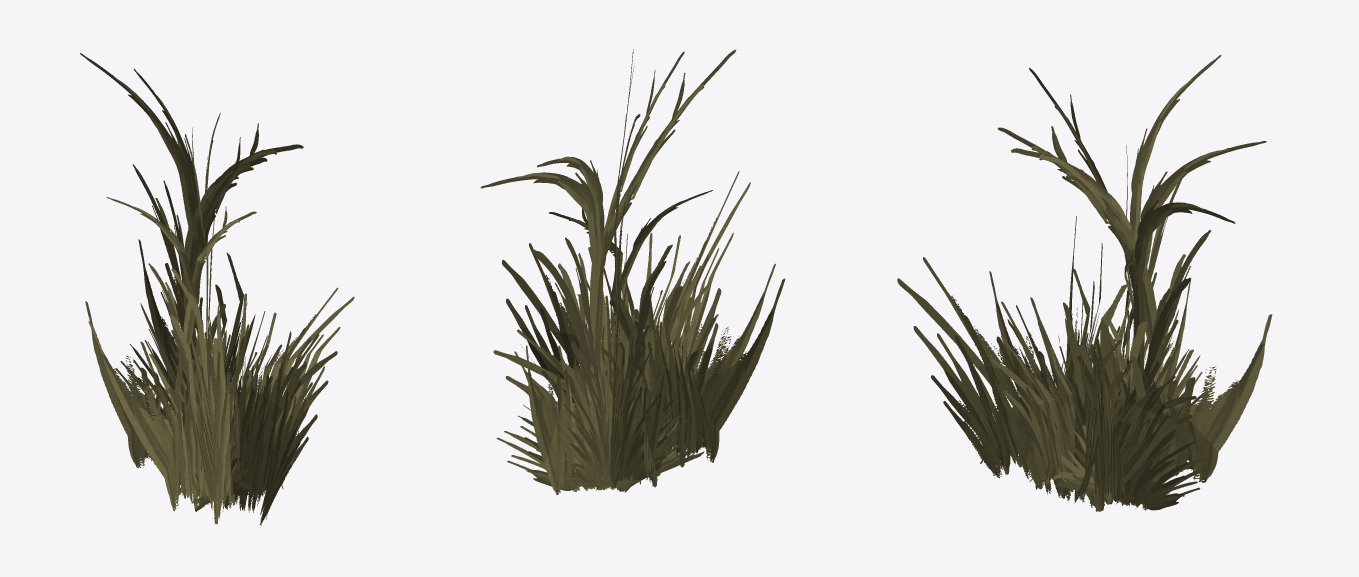
The model's file is shared_yellow_grass_02.fbx.
3 renders of one model, left to right at view 1: azimuth 30°, elevation 25°; view 2: azimuth 150°, elevation 25°; view 3: azimuth 270°, elevation 25°, orthographic. The views are drawn at different scales.
Parts seen in each view (by area): view 1: shared_yellow_grass_02; view 2: shared_yellow_grass_02; view 3: shared_yellow_grass_02.
Boxes of the visible parts, bbox=[...] form: shared_yellow_grass_02: bbox=[80, 53, 354, 525]; shared_yellow_grass_02: bbox=[480, 49, 785, 494]; shared_yellow_grass_02: bbox=[897, 55, 1272, 511].
Size of the model in its own units: 0.9712 by 1.34 by 1.21.
